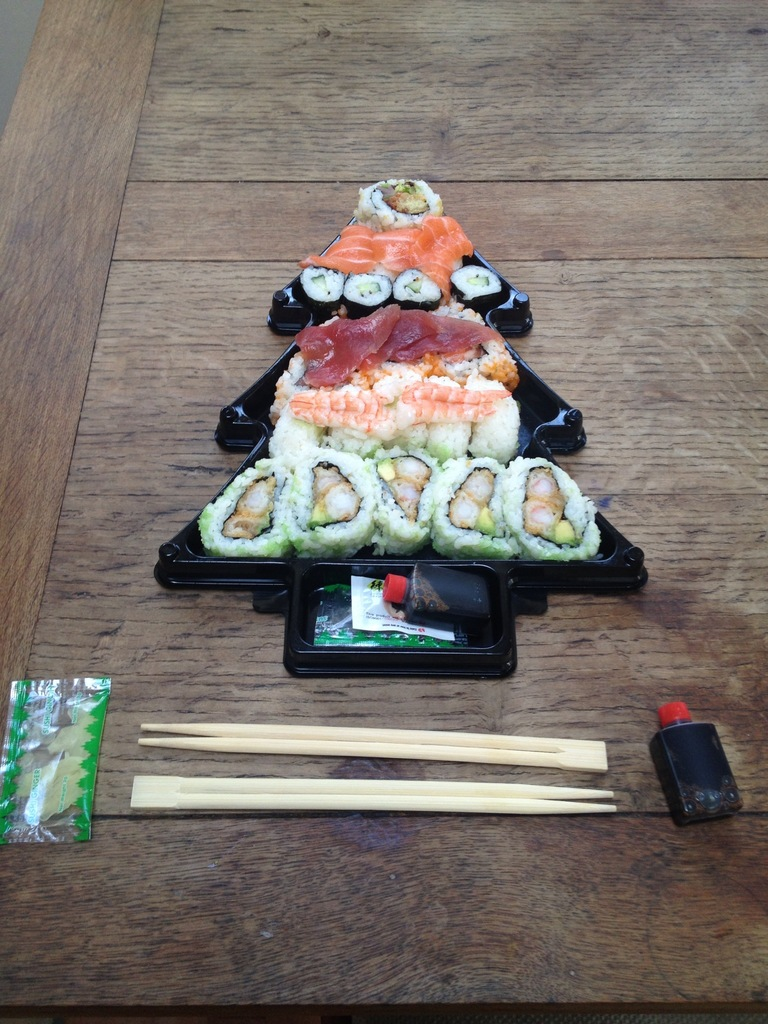sushi: (193, 176, 607, 557), (199, 454, 308, 569)
